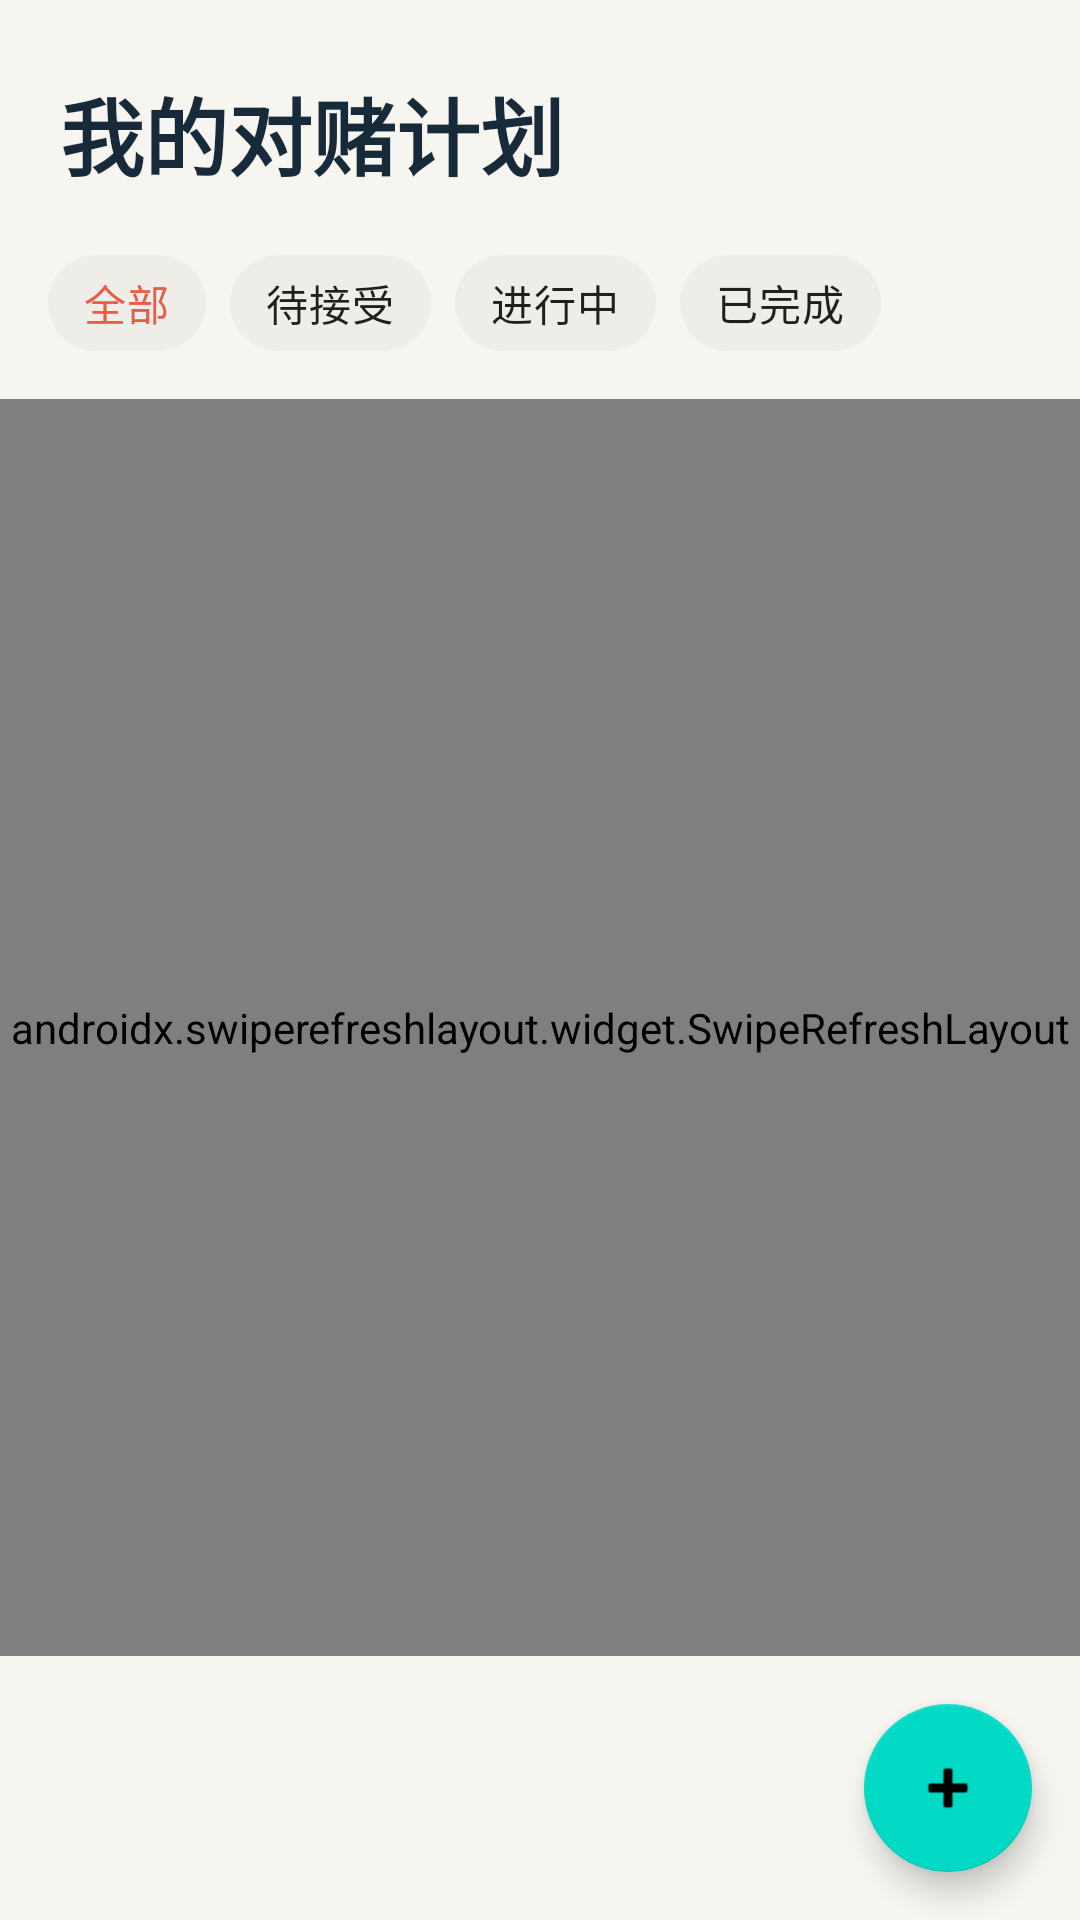

Named icons in this screenshot (1080*1920) and their centers, [x,y]:
创建计划: [948,1788]
